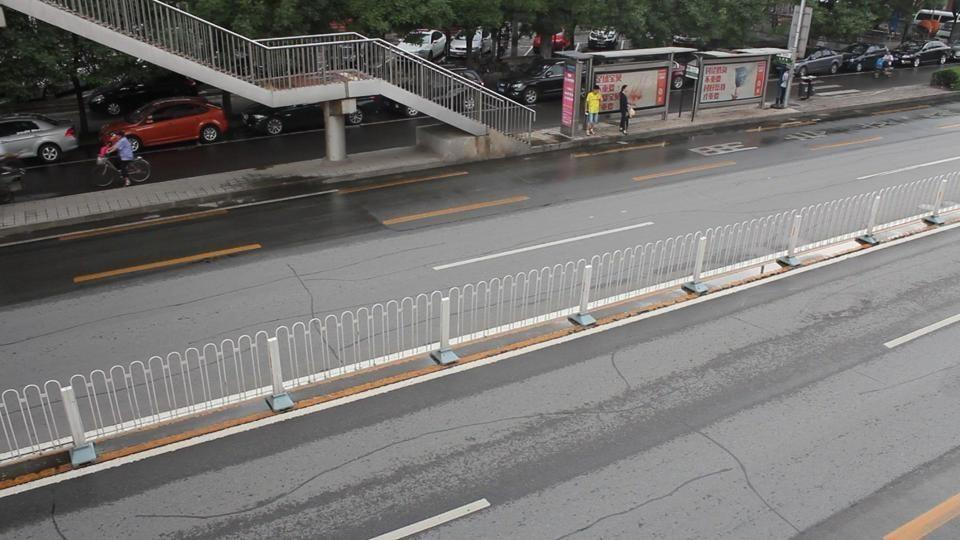car: (233, 83, 409, 138), (99, 97, 230, 154), (89, 77, 215, 126), (0, 114, 80, 164), (493, 61, 575, 105), (835, 45, 895, 74), (397, 28, 448, 61), (900, 41, 960, 68), (790, 49, 843, 77), (0, 154, 27, 203), (447, 33, 468, 59)
